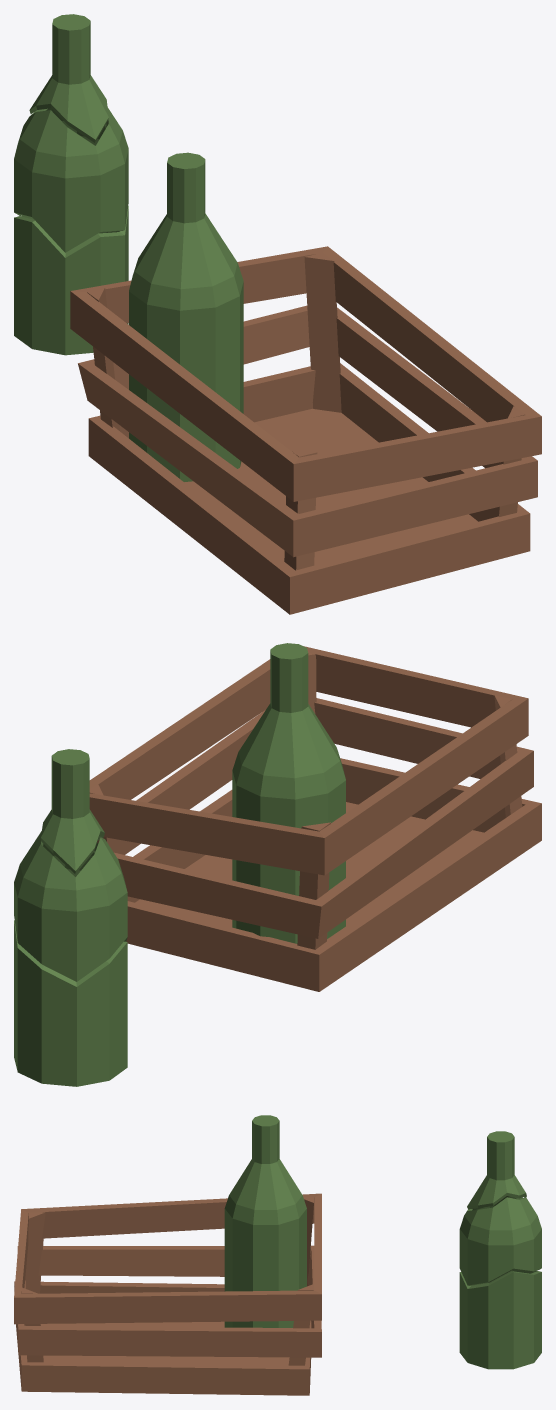
File: BotellaNO.fbx
3 renders of one model, top to bottom at view 1: azimuth 30°, elevation 25°; view 2: azimuth 150°, elevation 25°; view 3: azimuth 270°, elevation 25°, orthographic. The views are drawn at different scales.
Parts seen in each view (by area): view 1: Cube.001, Cylinder, Cylinder.003, Cylinder.004, Cylinder.002; view 2: Cube.001, Cylinder, Cylinder.004, Cylinder.003, Cylinder.002; view 3: Cube.001, Cylinder, Cylinder.004, Cylinder.003, Cylinder.002.
Part boxes in pixels (left/top/right/bottom): Cube.001: left=70, top=246, right=541, bottom=614; Cylinder: left=129, top=152, right=243, bottom=481; Cylinder.003: left=14, top=107, right=128, bottom=252; Cylinder.004: left=14, top=206, right=128, bottom=355; Cylinder.002: left=29, top=14, right=108, bottom=142; Cube.001: left=89, top=646, right=541, bottom=991; Cylinder: left=232, top=643, right=345, bottom=943; Cylinder.004: left=14, top=920, right=127, bottom=1086; Cylinder.003: left=14, top=831, right=127, bottom=981; Cylinder.002: left=41, top=749, right=104, bottom=874; Cube.001: left=14, top=1193, right=321, bottom=1395; Cylinder: left=224, top=1115, right=306, bottom=1327; Cylinder.004: left=459, top=1270, right=541, bottom=1369; Cylinder.003: left=459, top=1196, right=541, bottom=1285; Cylinder.002: left=467, top=1131, right=526, bottom=1209.
Size of the model in its own units: 50.66 by 57.97 by 128.
